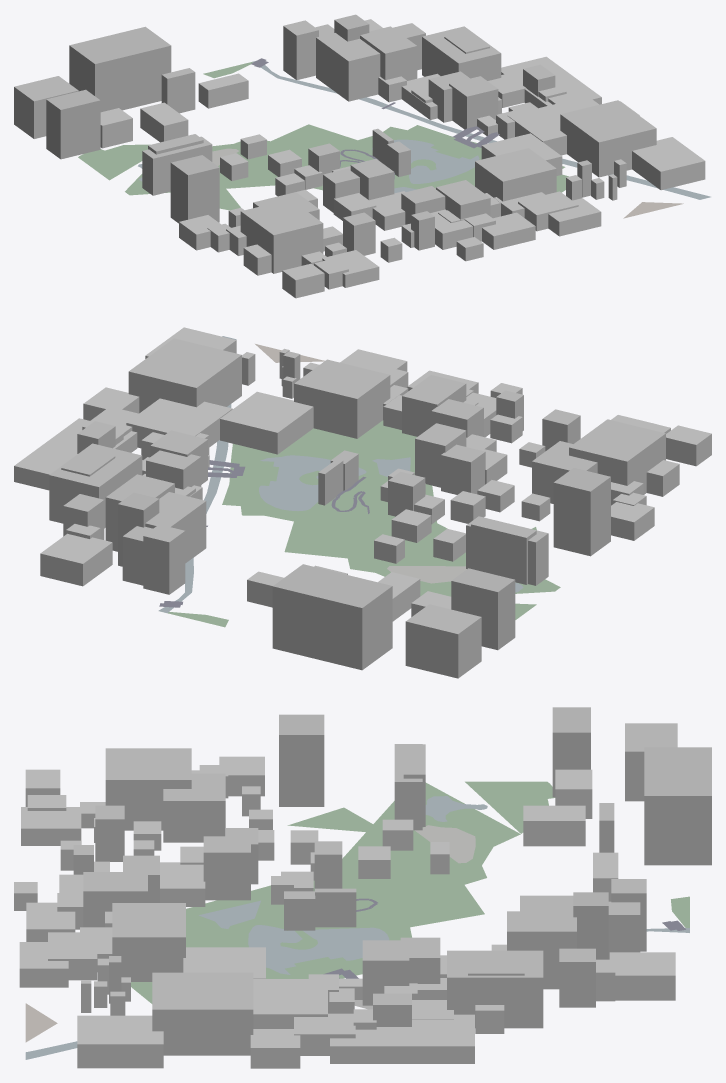
Rendered from 115_101_mid.glb.
3 renders of one model, top to bottom at view 1: azimuth 30°, elevation 25°; view 2: azimuth 150°, elevation 25°; view 3: azimuth 270°, elevation 25°, orthographic. The views are drawn at different scales.
Bounding box in the file's own units: 528 × 60.18 × 525.
